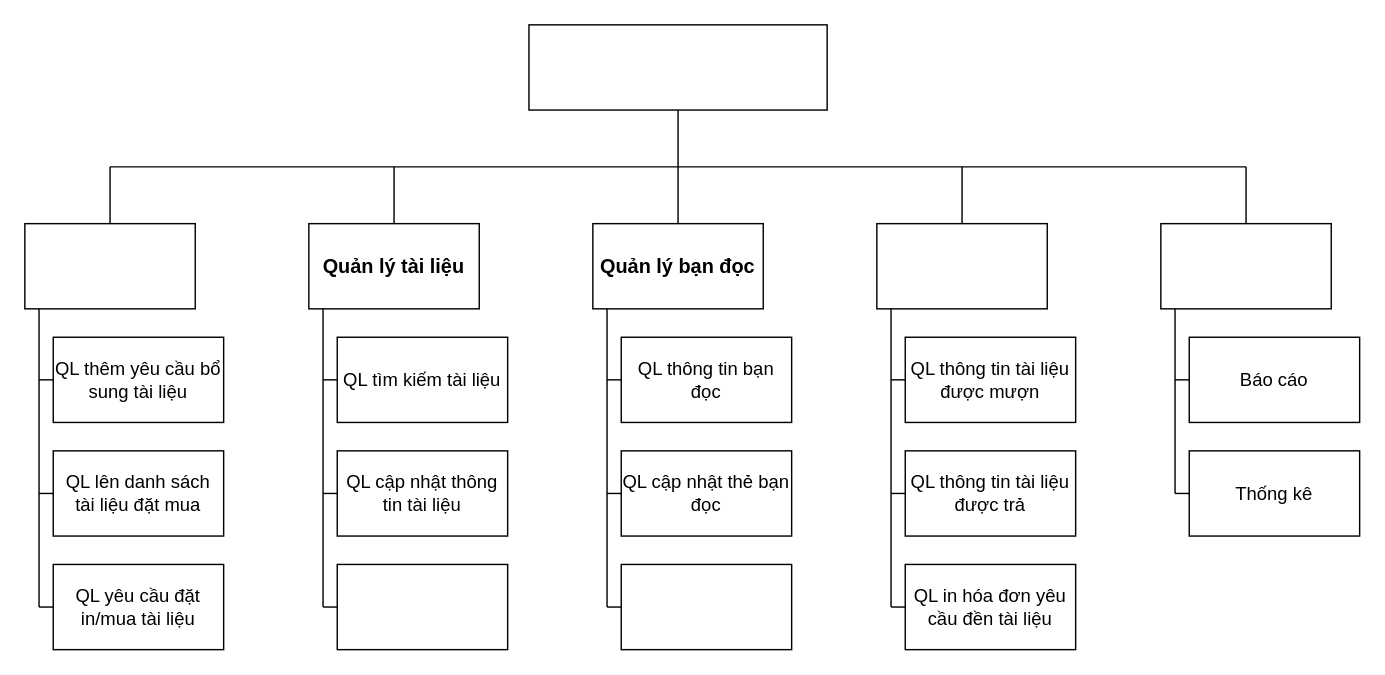
Image size: 1385x675. Some labels were removed from this diagram. The shapes that lost their labels are listed below. From the top down, each one's centre as x and y in pixels, then its label:
point (677, 66): Quản lý thư viện
point (109, 265): Quản lý đặt mua/bổ sung sách
point (961, 265): Quản lý mượn trả
point (1245, 265): Báo cáo/thống kê
point (422, 606): QL xử lý tài liệu hư hỏng
point (706, 606): QL xóa thẻ bạn đọc
